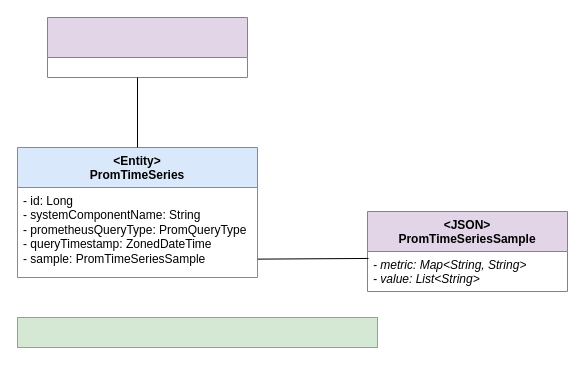
Some shapes in this 585 by 365 pixel diagram are drawn without their labels. Here are the shapes that lost their labels. From the top down, the centre of each, then its label:
At (x=147, y=47): "<Enum> PromQueryType".
At (x=197, y=332): "Package: ch.admin.bit.jeap.governance.prometheus.domain".
